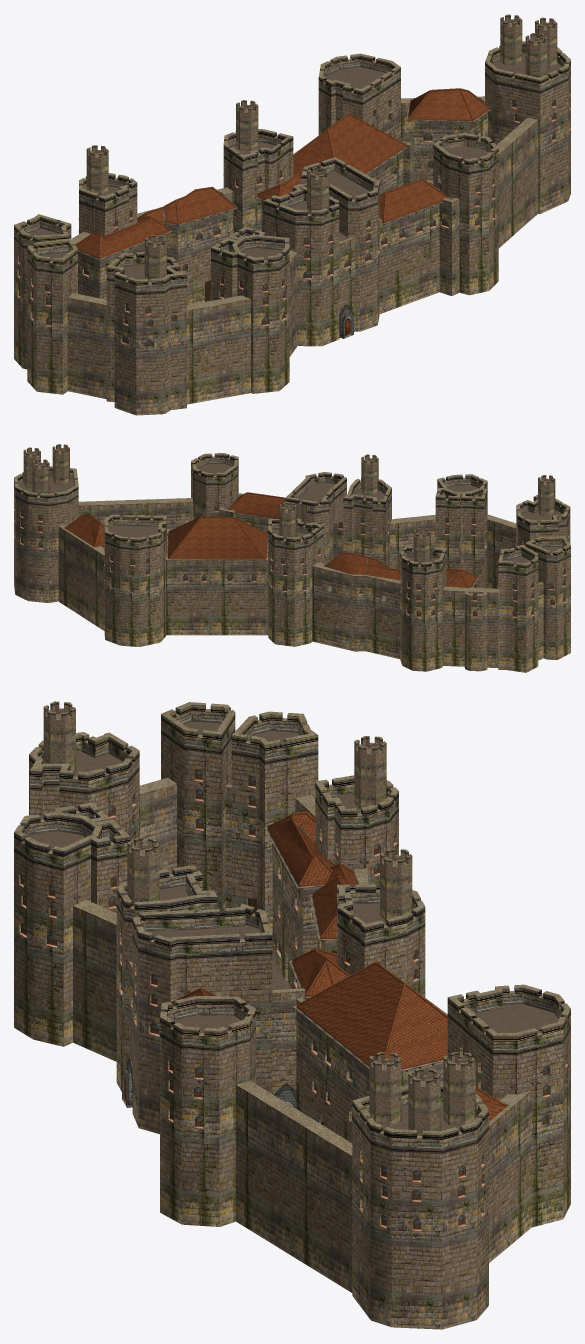
File: castle13.glb
The picture shows the model from 3 angles, top to bottom: view 1: azimuth 30°, elevation 25°; view 2: azimuth 150°, elevation 25°; view 3: azimuth 270°, elevation 25°; orthographic projection. The views are drawn at different scales.
Parts seen in each view (by area): view 1: acmat_4, acmat_5, acmat_24, acmat_0, acmat_8, acmat_6; view 2: acmat_4, acmat_5, acmat_24, acmat_0, acmat_8, acmat_6; view 3: acmat_4, acmat_5, acmat_24, acmat_0, acmat_8, acmat_6.
Boxes of the visible parts, x1,y1,x2,y2 form: acmat_4: (14, 14, 570, 415); acmat_5: (75, 88, 489, 258); acmat_24: (14, 41, 570, 310); acmat_0: (28, 54, 561, 301); acmat_8: (19, 99, 554, 346); acmat_6: (17, 94, 570, 348); acmat_4: (14, 444, 570, 672); acmat_5: (64, 492, 477, 588); acmat_24: (14, 453, 570, 595); acmat_0: (19, 463, 562, 565); acmat_8: (21, 491, 564, 616); acmat_6: (14, 496, 569, 618); acmat_4: (14, 701, 570, 1329); acmat_5: (171, 811, 507, 1121); acmat_24: (14, 702, 570, 1155); acmat_0: (28, 721, 558, 1131); acmat_8: (20, 769, 548, 1229); acmat_6: (18, 779, 568, 1231).
Bounding box in the file's own units: 76.97 × 20.2 × 41.95.
Materials: 19 (16 with a texture image).
